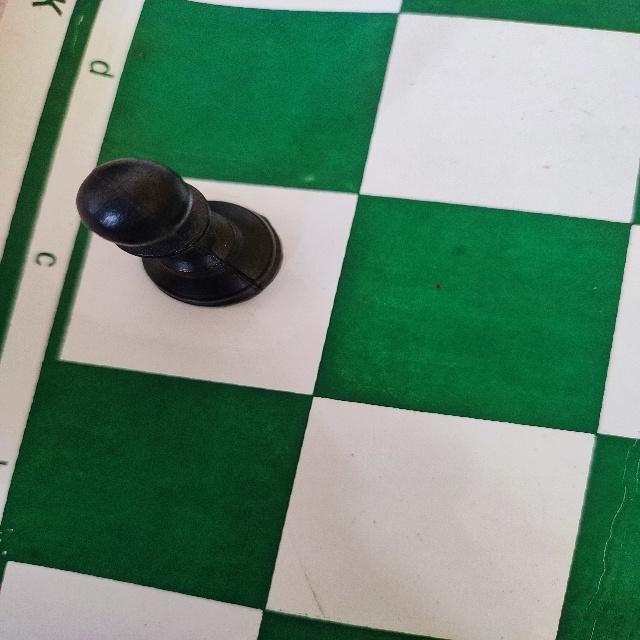Pawn: (73, 156, 283, 308)
